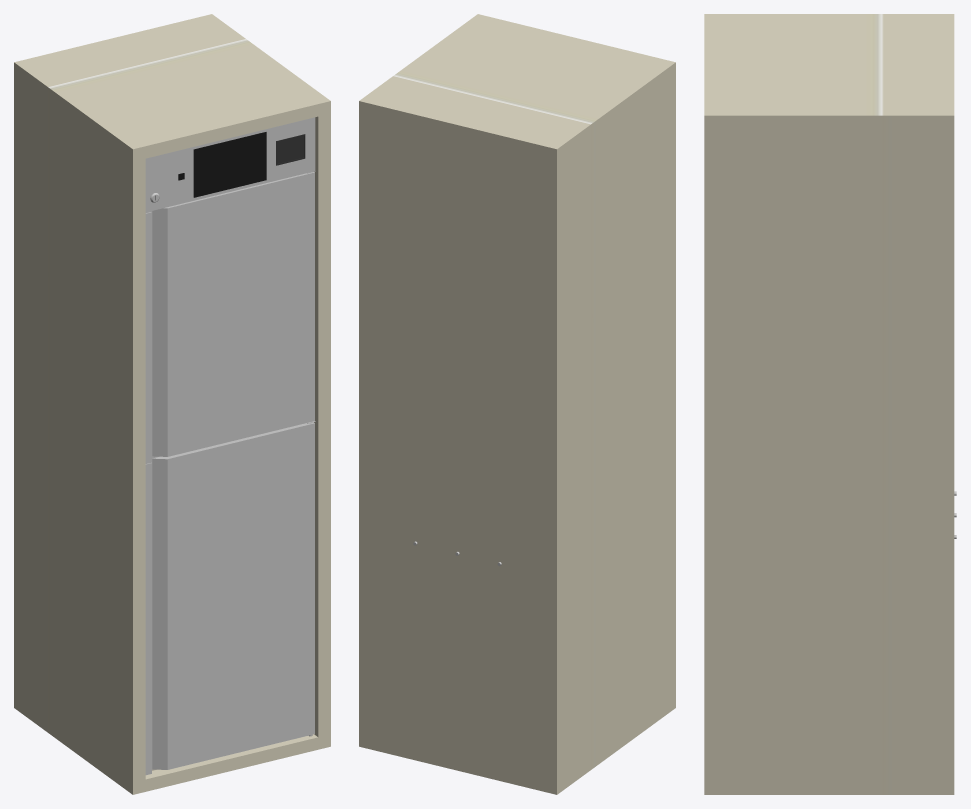
The picture shows the model from 3 angles, left to right: view 1: azimuth 30°, elevation 25°; view 2: azimuth 150°, elevation 25°; view 3: azimuth 270°, elevation 25°; orthographic projection. The views are drawn at different scales.
Visible parts, largest first — view 1: root; view 2: root; view 3: root.
Part boxes in pixels (x1=…): root: x1=14, y1=14, x2=330, y2=794; root: x1=359, y1=14, x2=675, y2=794; root: x1=704, y1=14, x2=956, y2=794.
Bounding box in the file's own units: 0.5 × 1.56 × 0.525.
5 materials, 1 textured.
